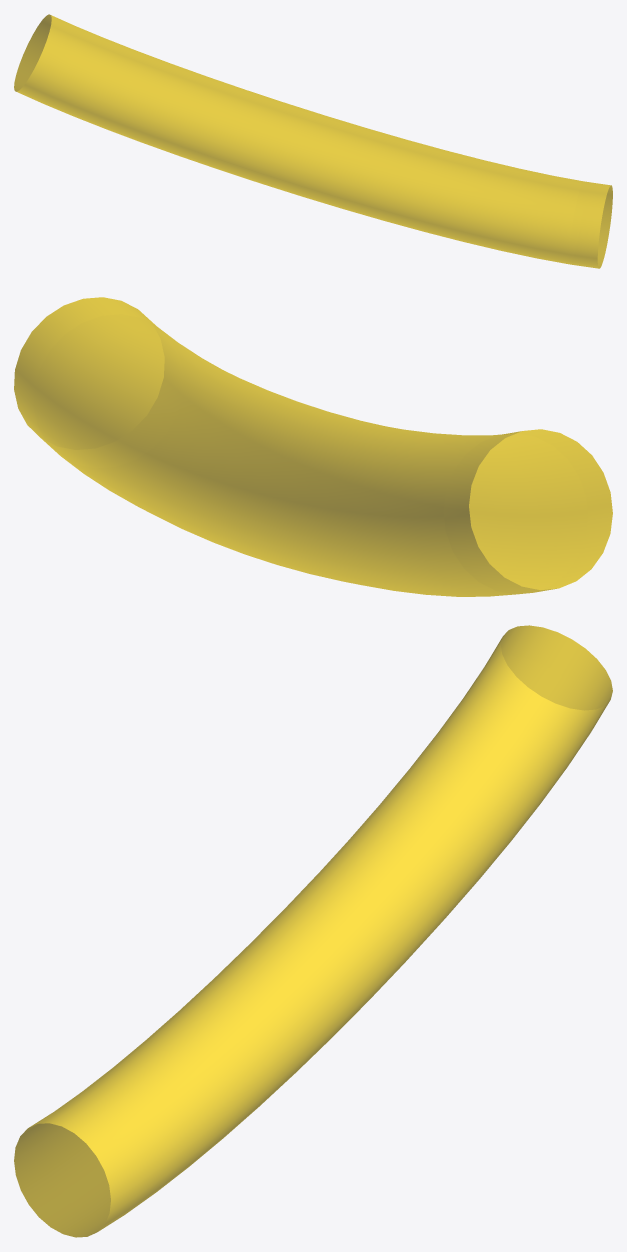
The model's file is Event_100608114_track_82.fbx.
3 views of the same model, one above another, from view 1: azimuth 30°, elevation 25°; view 2: azimuth 150°, elevation 25°; view 3: azimuth 270°, elevation 25° (orthographic). The views are drawn at different scales.
Visible parts, largest first — view 1: Model; view 2: Model; view 3: Model.
Boxes of the visible parts, <box> form: Model: <box>14,14,612,268</box>; Model: <box>14,297,612,596</box>; Model: <box>14,625,612,1237</box>.
Size of the model in its own units: 0.2453 by 0.1158 by 0.1914.
